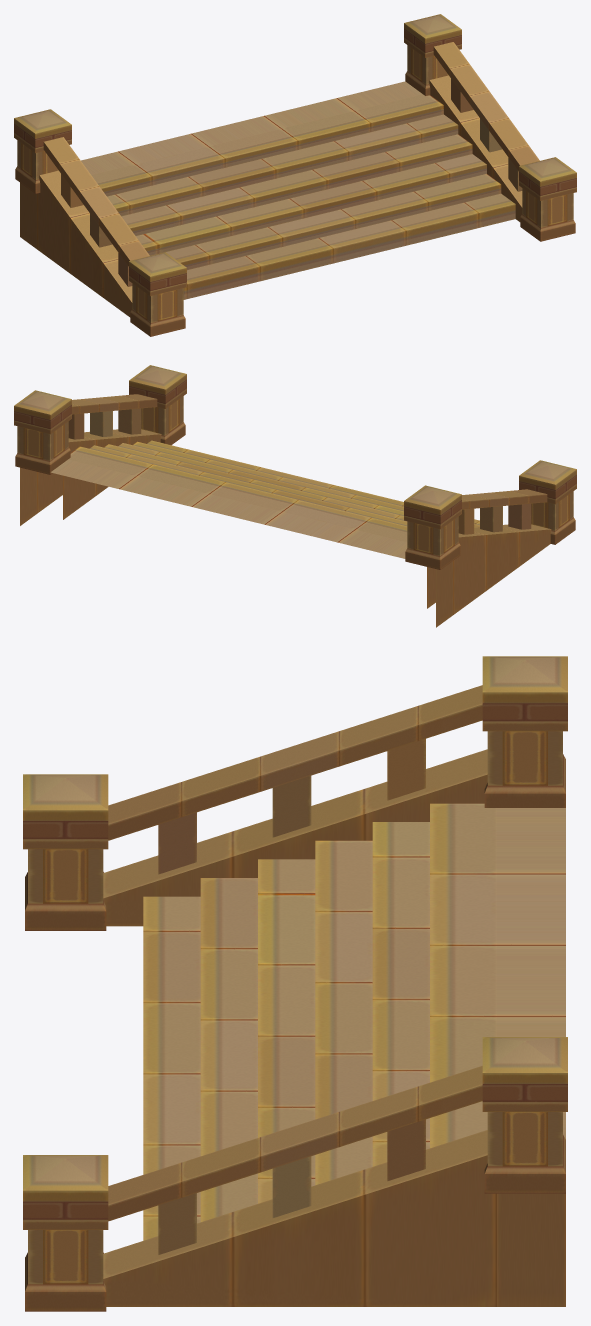
Rendered from Stairs01.FBX.
3 renders of one model, top to bottom at view 1: azimuth 30°, elevation 25°; view 2: azimuth 150°, elevation 25°; view 3: azimuth 270°, elevation 25°, orthographic. The views are drawn at different scales.
Visible parts, largest first — view 1: Stairs01; view 2: Stairs01; view 3: Stairs01.
Part boxes in pixels (<box>): Stairs01: <box>14,14,576,336</box>; Stairs01: <box>14,365,576,627</box>; Stairs01: <box>23,656,567,1311</box>.
Size of the model in its own units: 854 by 242 by 472.
